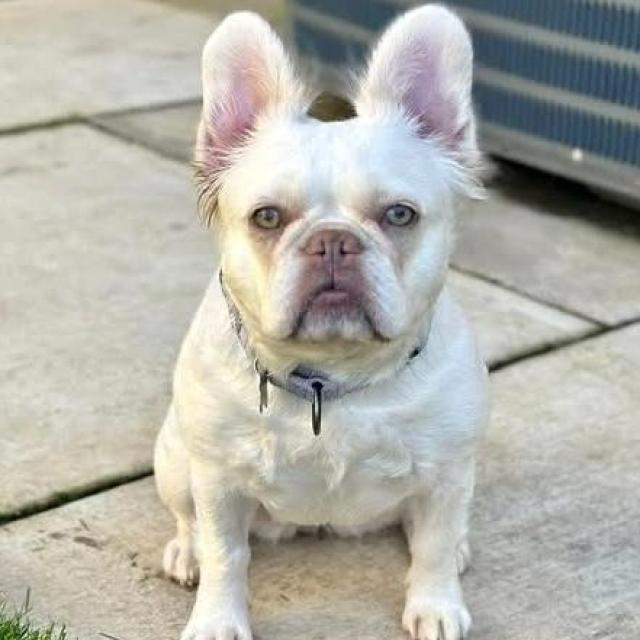french_bulldog_dog: (185, 4, 499, 372)
